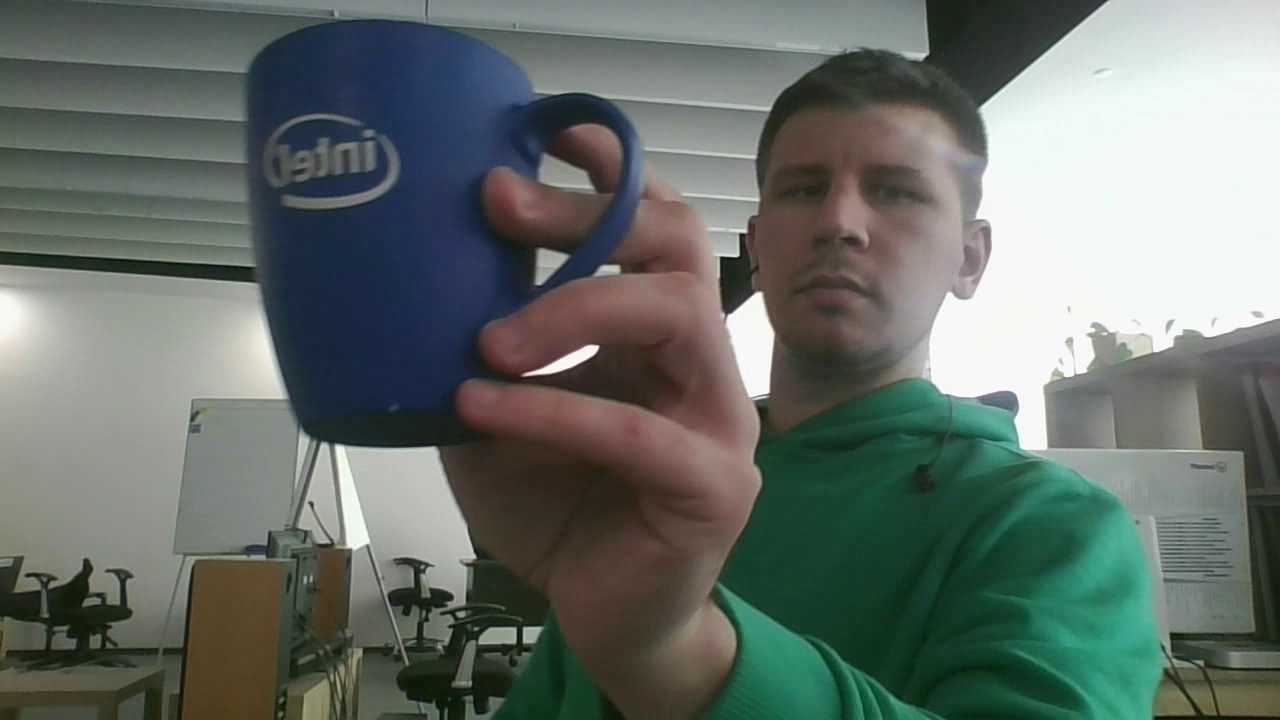cup: (242, 18, 644, 450)
